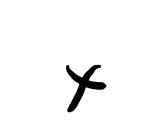mult: (65, 60, 105, 112)
